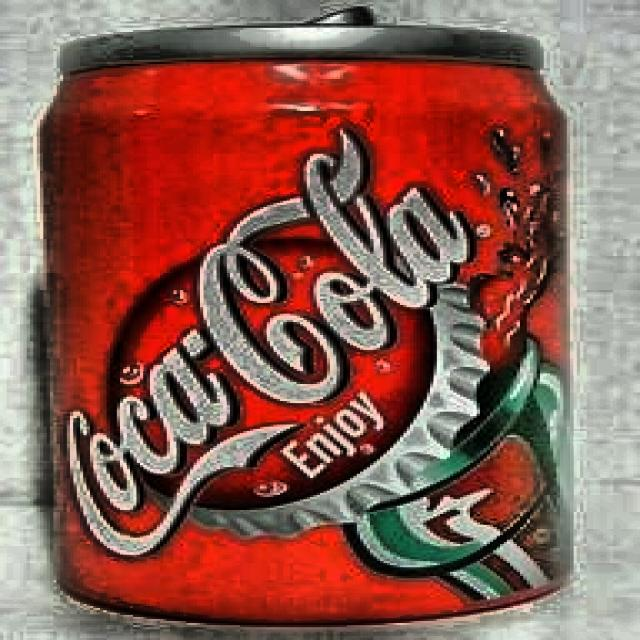Cans: (23, 9, 602, 634)
